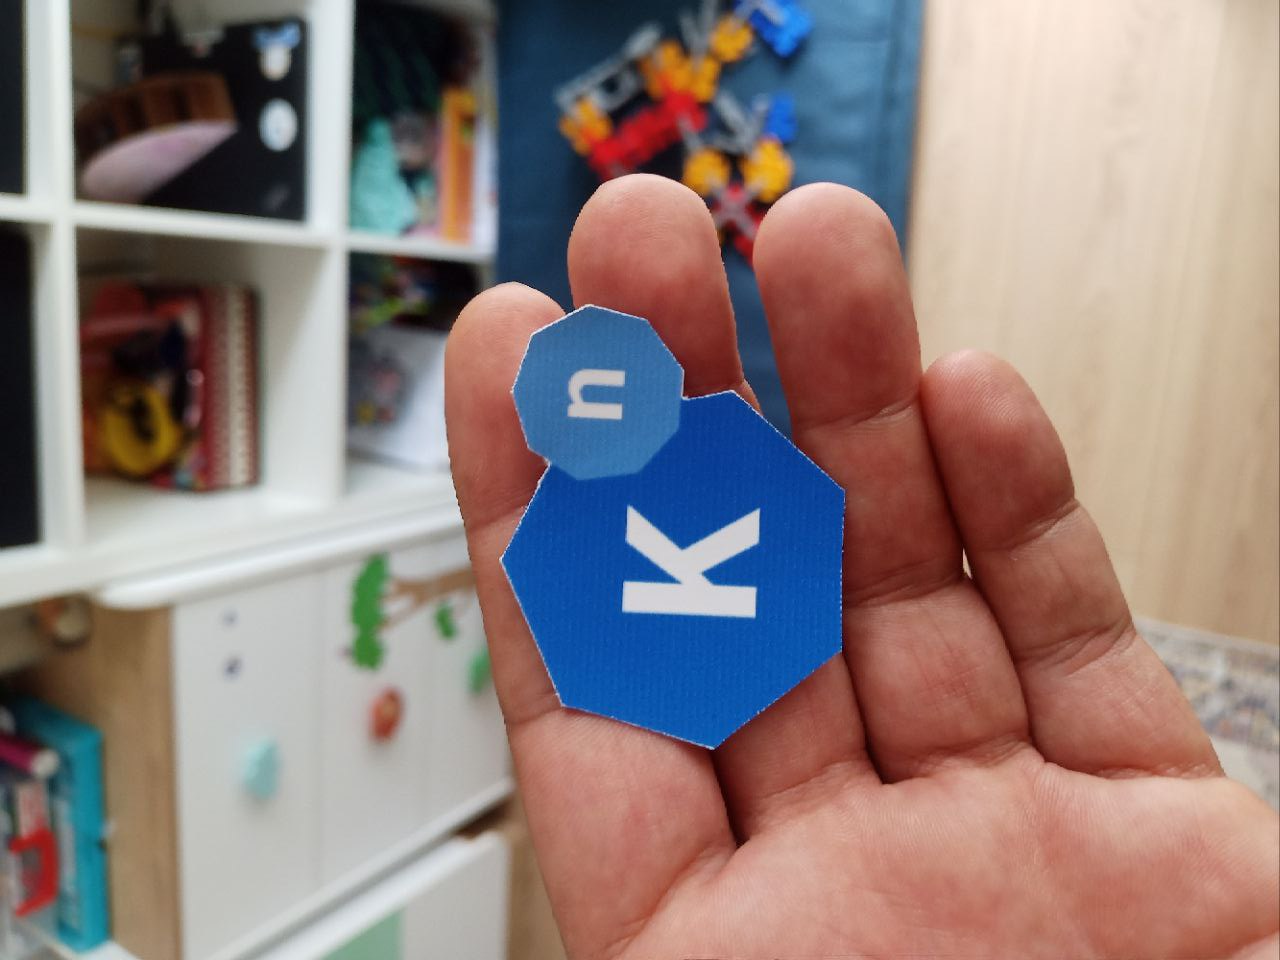knative: (498, 304, 840, 751)
